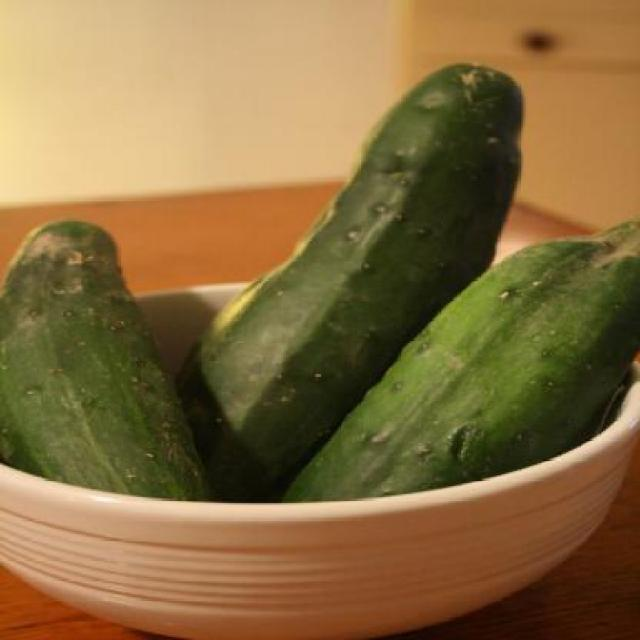Zucchini: (176, 64, 522, 507), (272, 217, 640, 505), (0, 212, 217, 499)
